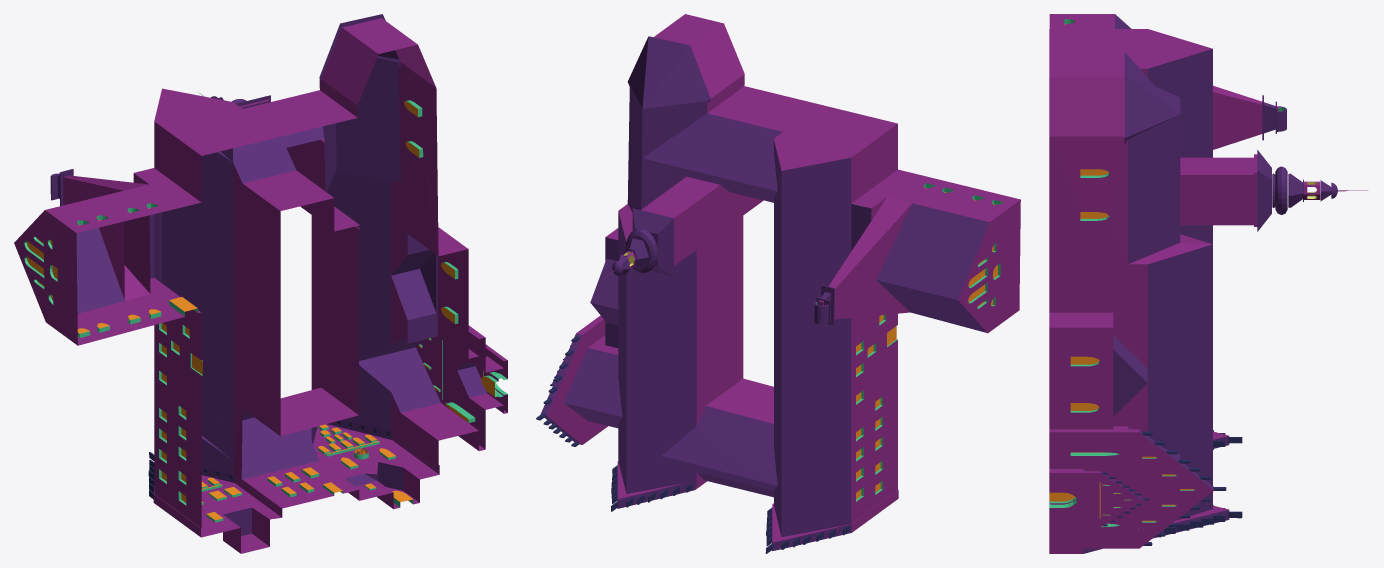
File: Kościół Bernardynów Tier 3.fbx
The picture shows the model from 3 angles, left to right: view 1: azimuth 30°, elevation 25°; view 2: azimuth 150°, elevation 25°; view 3: azimuth 270°, elevation 25°; orthographic projection. The views are drawn at different scales.
Parts seen in each view (by area): view 1: Kościół Bernardynów; view 2: Kościół Bernardynów; view 3: Kościół Bernardynów.
Boxes of the visible parts, bbox=[...] form: Kościół Bernardynów: bbox=[14, 14, 507, 553]; Kościół Bernardynów: bbox=[536, 14, 1020, 553]; Kościół Bernardynów: bbox=[1049, 14, 1367, 553].
Bounding box in the file's own units: 3.74 × 3.9 × 2.32.
